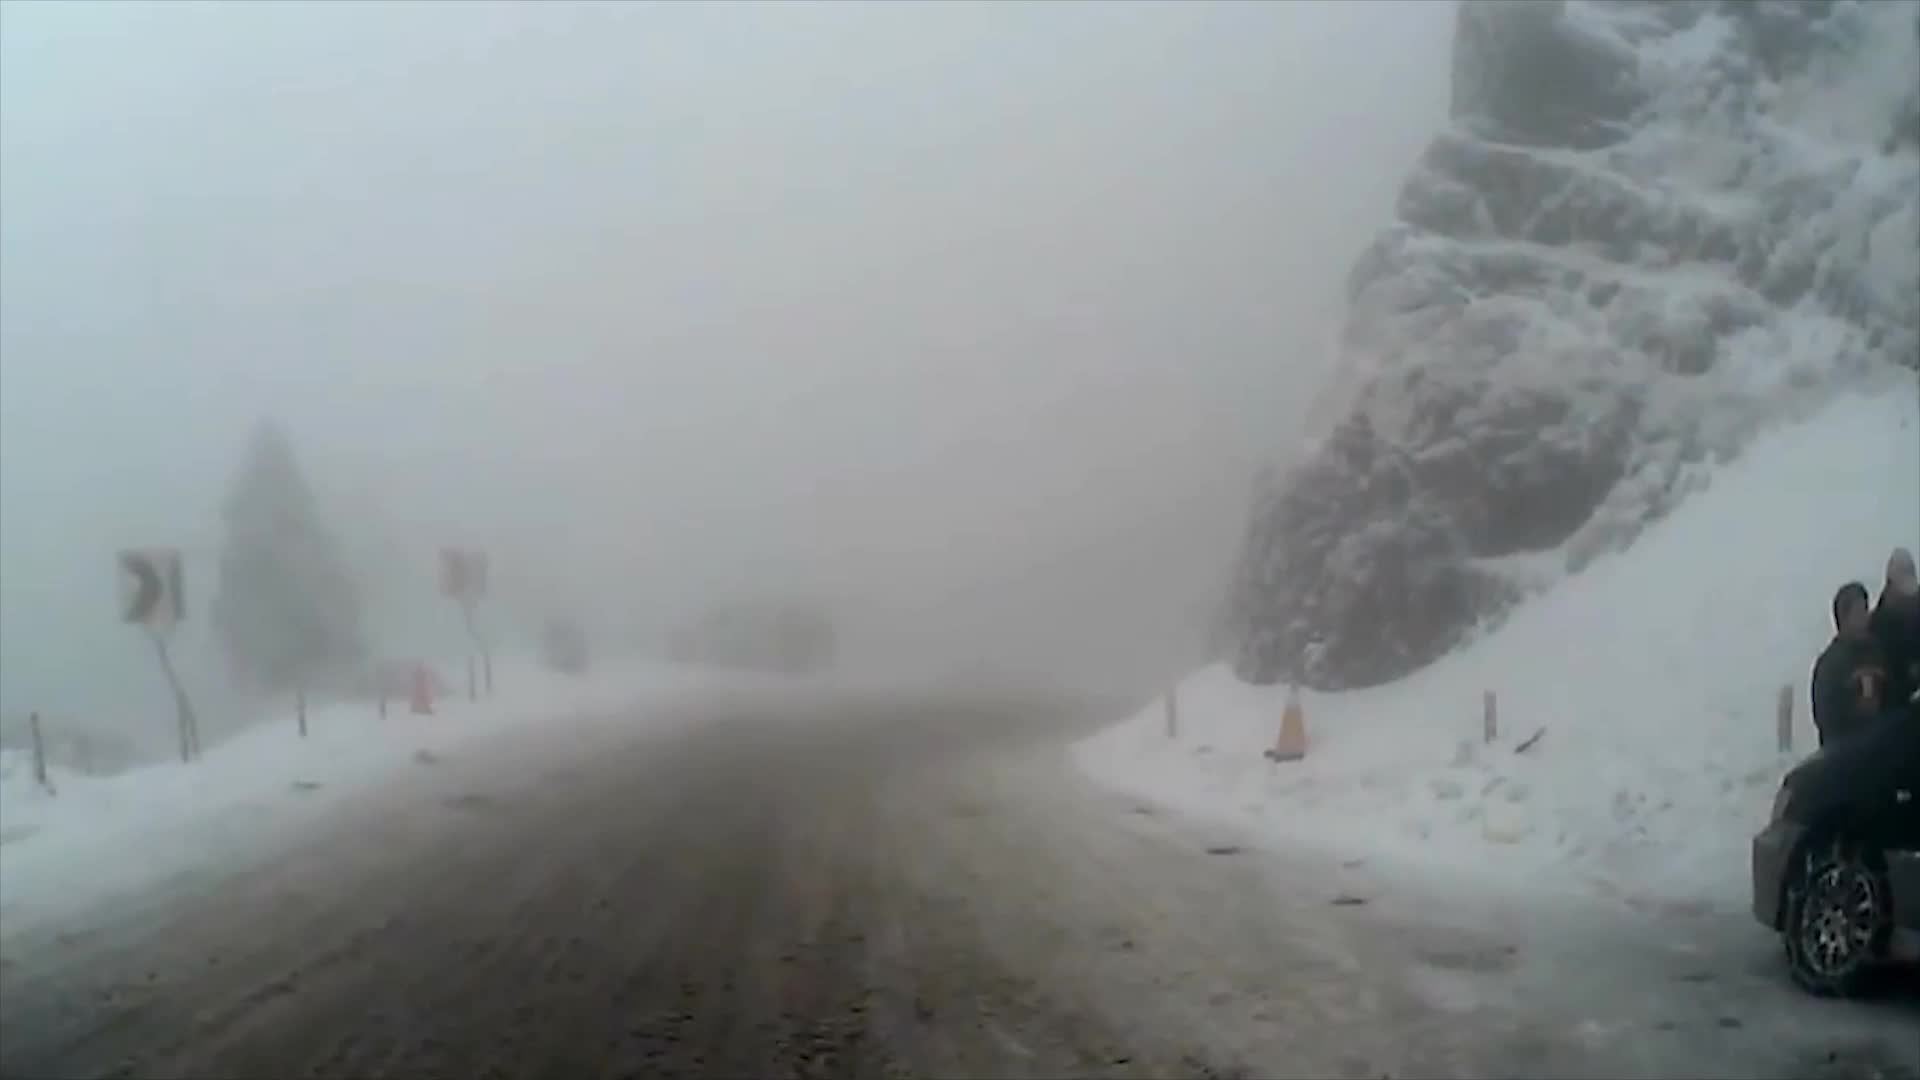pedestrian: (1809, 582, 1908, 911), (1869, 548, 1920, 847)
vehicle: (1746, 687, 1919, 1001)
